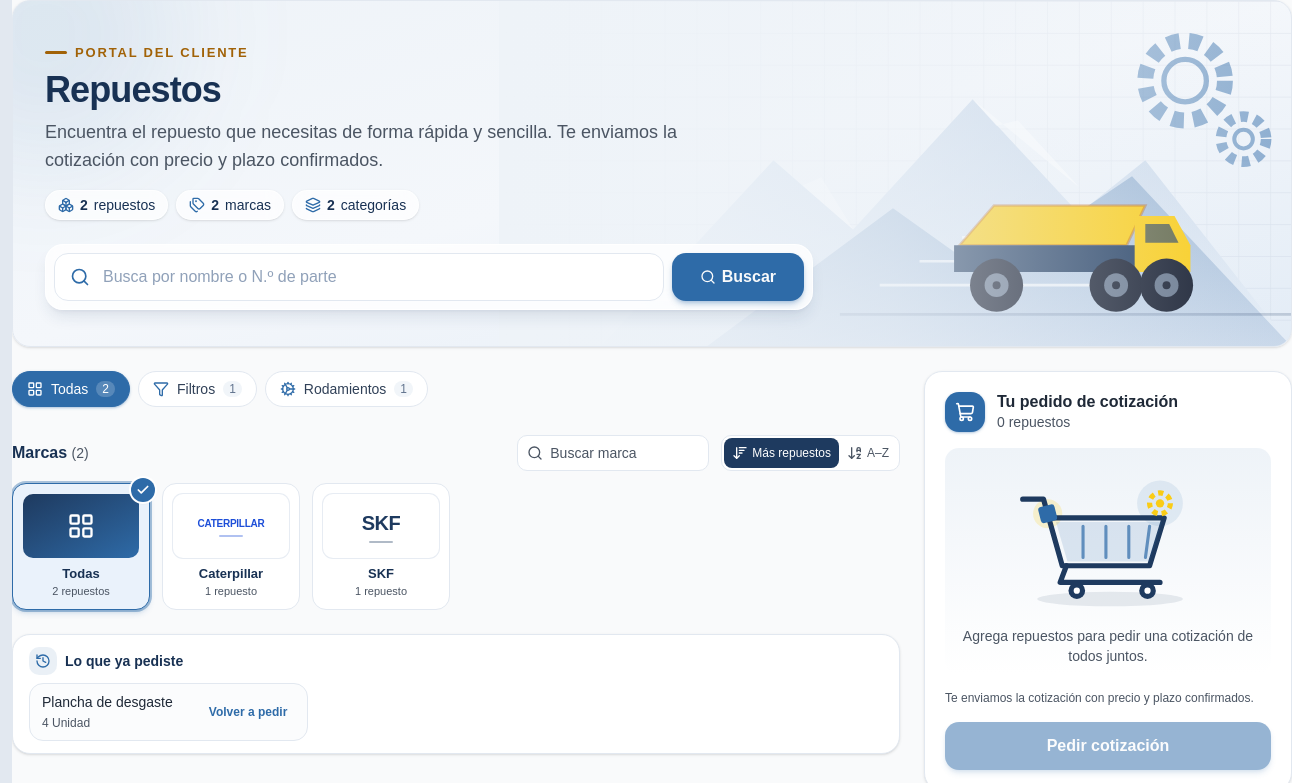
RepuestosPage (RF-82) › Lo que ya pediste: Volver a pedir lo agrega al carrito
Click the button with aria-label "volver a pedir plancha de desgaste".
click(248, 712)  # box [201, 700, 295, 724]
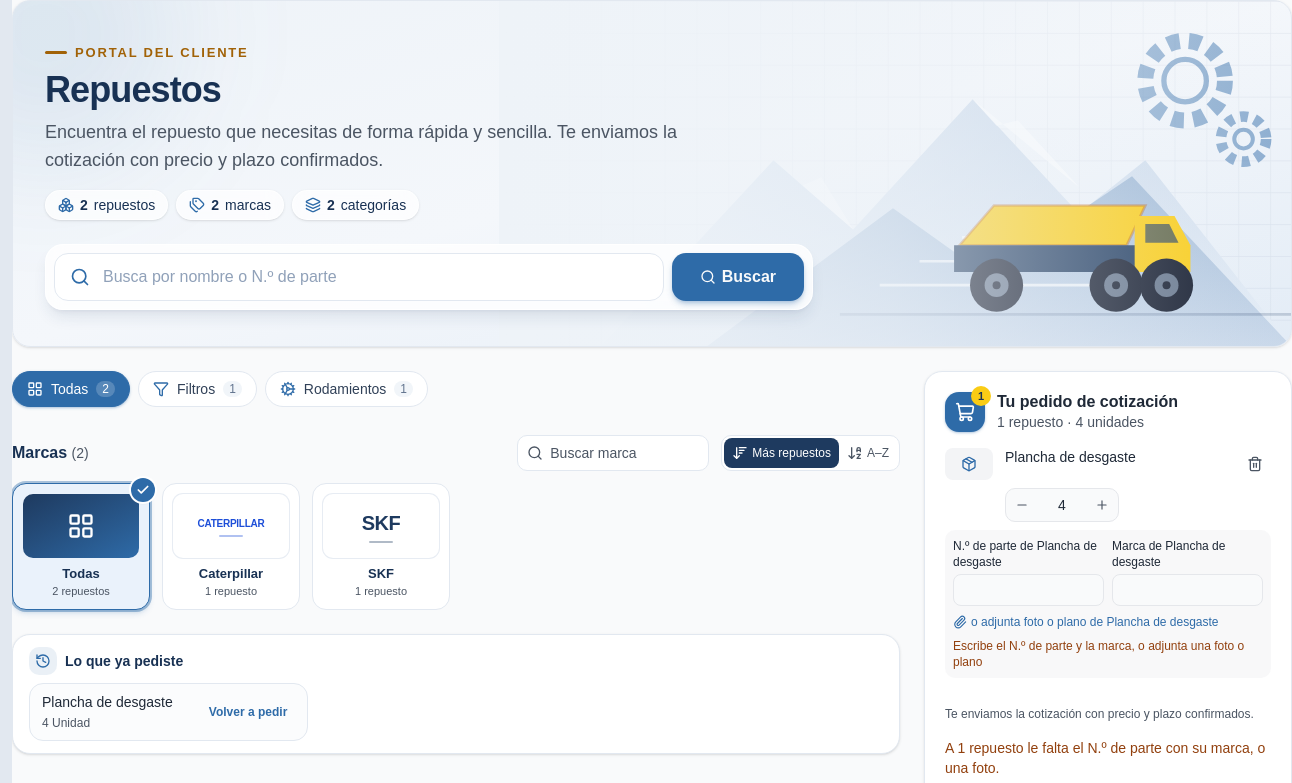
Check: the text "Plancha de desgaste" below "· 4 unidades" is shown, box [1005, 449, 1136, 465]
Check: the number field named "cantidad de plancha de desgaste" holds "4", box [1038, 489, 1086, 521]
